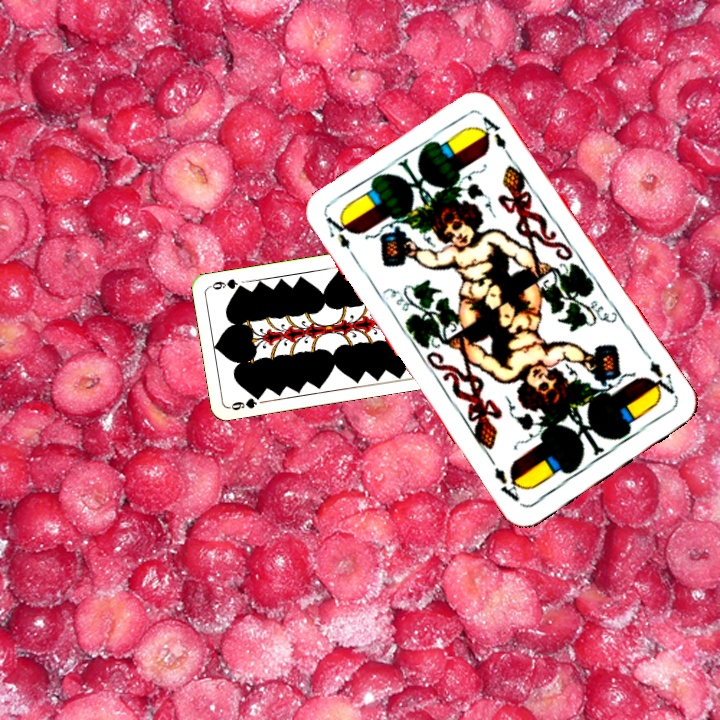EA: (321, 212, 361, 265), (643, 356, 677, 401)
G9: (226, 390, 265, 413)
